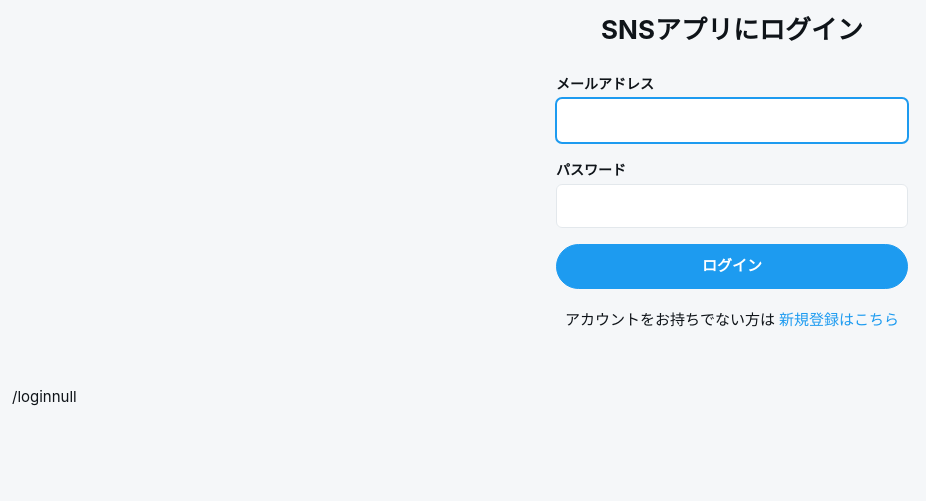
it: LoginPage：ログイン › それ以外の失敗（通信エラーなど）は、入力を残したまま文言を出す
Type "a@example.com" into the field labelled "メールアドレス". click: (732, 120)
box: [556,98,908,142]
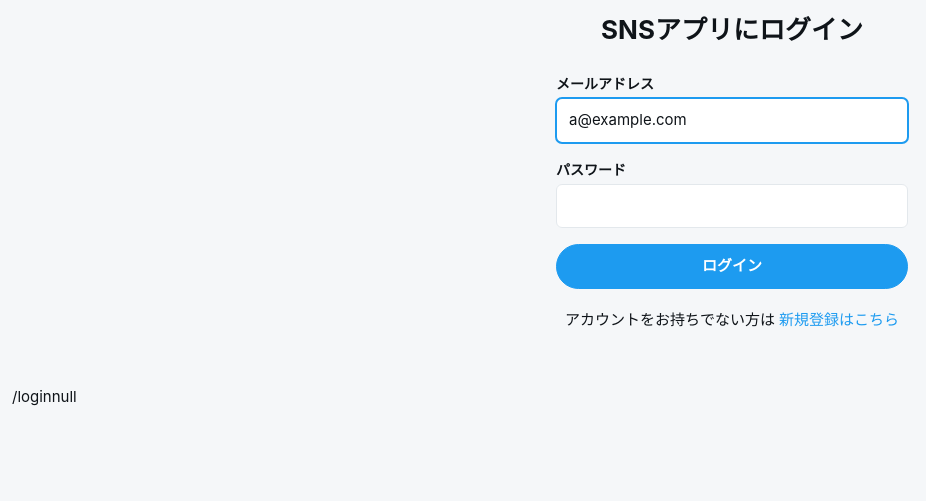
Type "password" into the password field labelled "パスワード". click: (732, 206)
box: [556,184,908,228]
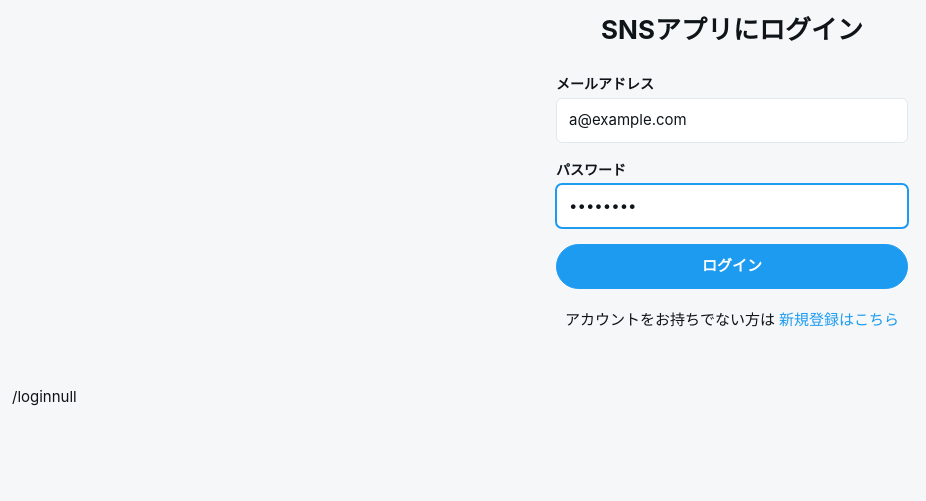
Click the button "ログイン". click: click(732, 266)
box: [556,244,908,288]
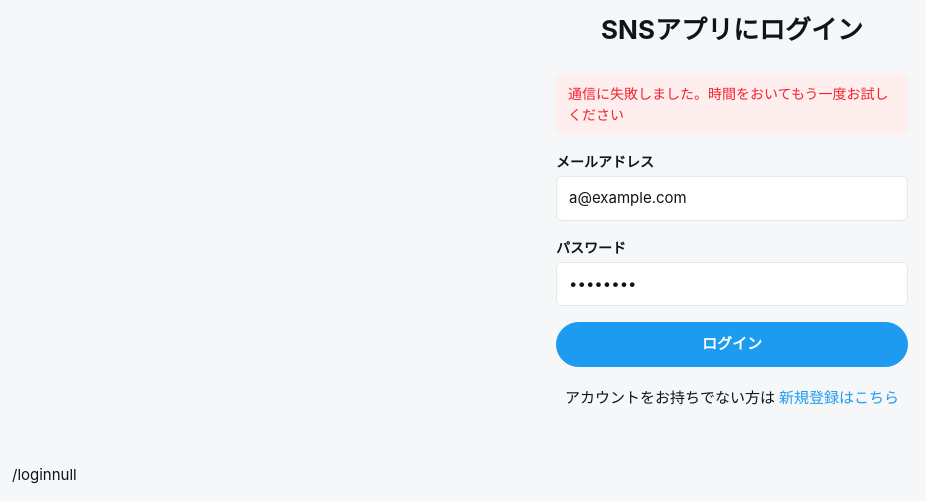
Result: the message reads "通信に失敗しました。時間をおいてもう一度お試しください" at [568,85,888,123]
